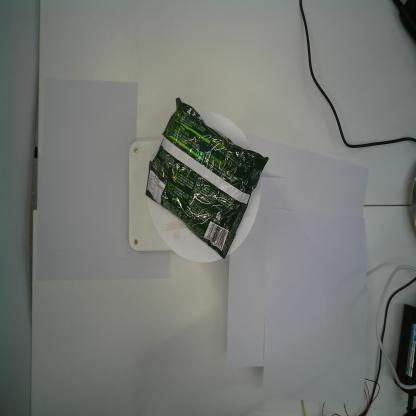Instant Noodles: (144, 95, 269, 262)
